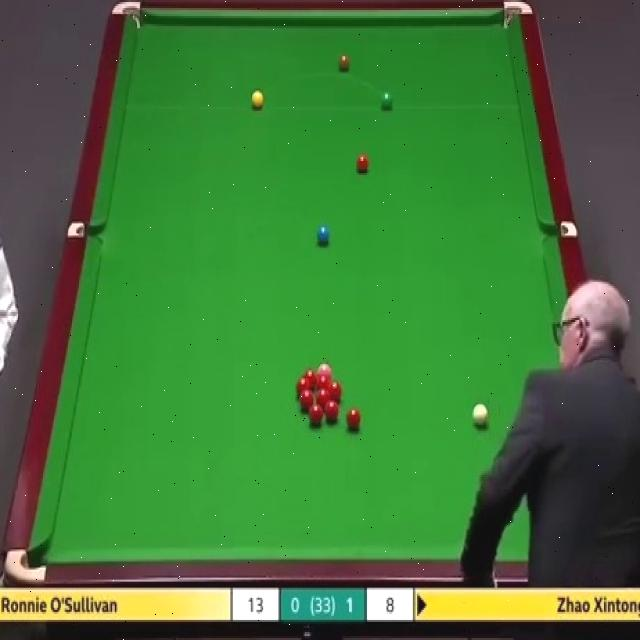blue-ball: (316, 224, 330, 247)
brown-ball: (338, 54, 350, 74)
green-ball: (379, 91, 395, 112)
pink-ball: (316, 362, 332, 375)
red-ball: (324, 401, 339, 426), (355, 154, 372, 176), (346, 409, 361, 431), (309, 404, 323, 426), (328, 380, 342, 402), (303, 369, 319, 388), (295, 376, 311, 394), (300, 390, 314, 410), (316, 373, 332, 390), (316, 388, 331, 406)
white-ball: (472, 402, 489, 428)
yellow-ball: (251, 90, 264, 110)
